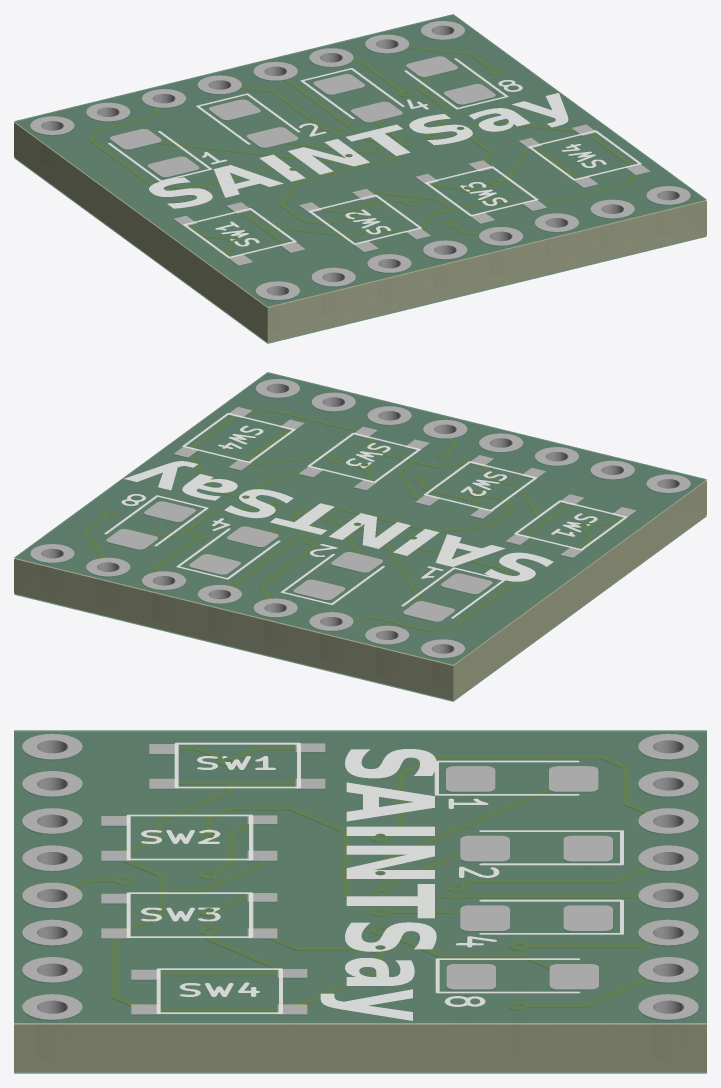
The model's file is saintsays-minibadge.glb.
3 renders of one model, top to bottom at view 1: azimuth 30°, elevation 25°; view 2: azimuth 150°, elevation 25°; view 3: azimuth 270°, elevation 25°, orthographic. The views are drawn at different scales.
Visible parts, largest first — view 1: =>[0:1:1:9], =>[0:1:1:7], =>[0:1:1:2], =>[0:1:1:5]; view 2: =>[0:1:1:9], =>[0:1:1:7], =>[0:1:1:2], =>[0:1:1:5]; view 3: =>[0:1:1:9], =>[0:1:1:7], =>[0:1:1:2], =>[0:1:1:5].
Part boxes in pixels (x1,y1,x2,y2): =>[0:1:1:9]: (14, 16, 706, 342); =>[0:1:1:7]: (14, 14, 706, 343); =>[0:1:1:2]: (30, 21, 690, 300); =>[0:1:1:5]: (108, 58, 641, 258); =>[0:1:1:9]: (14, 374, 706, 700); =>[0:1:1:7]: (14, 372, 706, 701); =>[0:1:1:2]: (30, 379, 690, 658); =>[0:1:1:5]: (104, 413, 627, 618); =>[0:1:1:9]: (14, 732, 706, 1071); =>[0:1:1:7]: (14, 730, 706, 1073); =>[0:1:1:2]: (22, 734, 698, 1020); =>[0:1:1:5]: (126, 742, 623, 1020).
Bounding box in the file's own units: 0.02 × 0.00166 × 0.02.
Materials: 4 (4 with a texture image).
